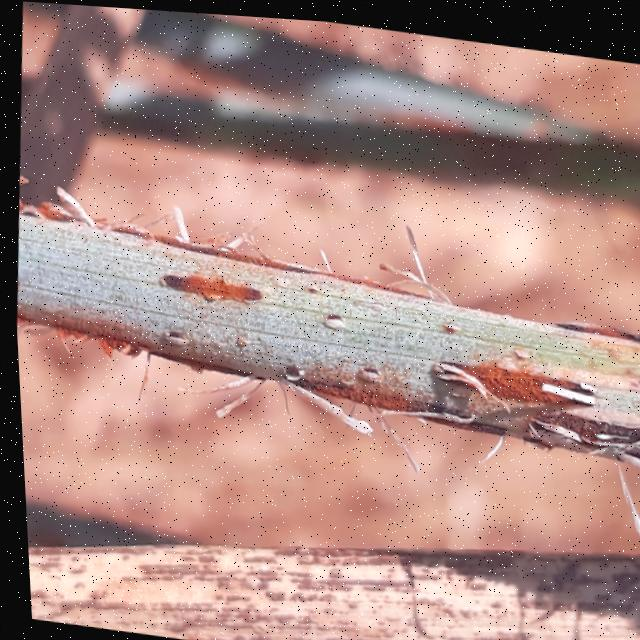black_stem_rust: (6, 142, 640, 640)
